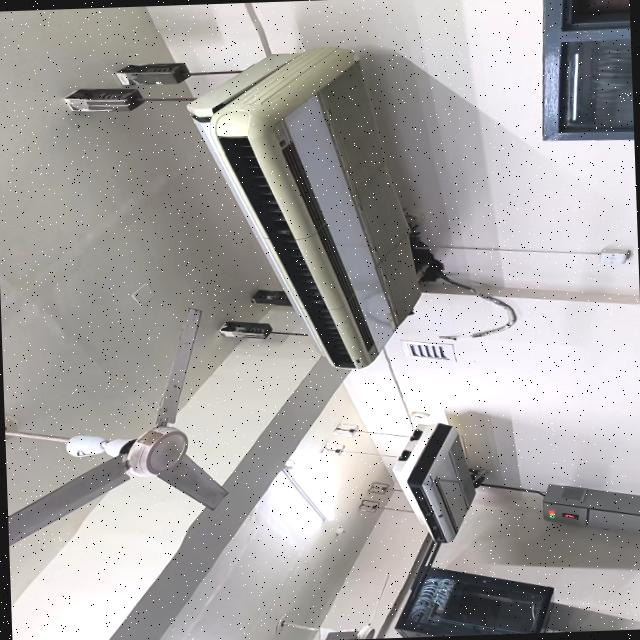Ac: (185, 47, 418, 369), (392, 422, 485, 543)
Light: (280, 464, 331, 521)
